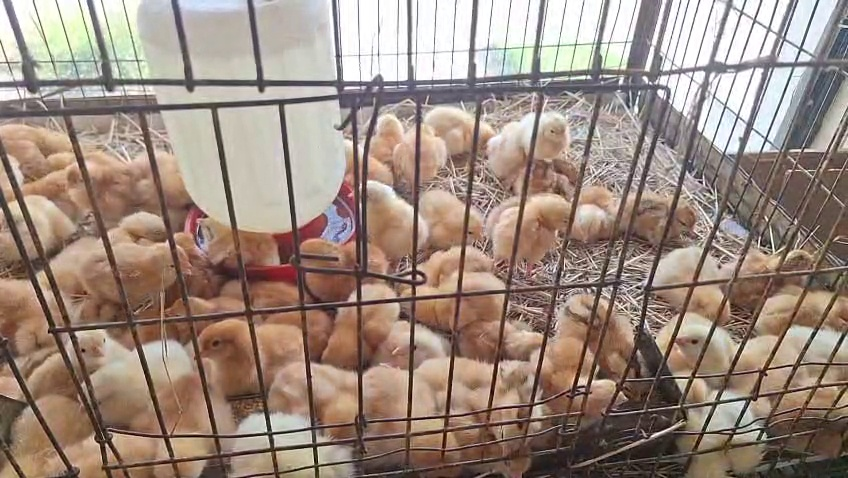Pollo: (359, 363, 469, 474), (189, 315, 315, 395), (77, 336, 190, 425), (341, 167, 435, 266), (262, 359, 368, 445), (63, 234, 187, 307), (527, 335, 633, 420), (220, 411, 354, 477), (151, 382, 238, 478), (673, 385, 765, 475), (475, 353, 550, 463), (283, 236, 398, 303), (716, 232, 821, 305), (552, 286, 639, 374), (739, 320, 804, 436), (316, 286, 405, 369), (497, 187, 576, 280), (652, 308, 742, 387), (647, 245, 740, 321), (25, 322, 123, 394), (7, 394, 89, 478), (63, 150, 157, 221), (187, 209, 285, 273), (410, 272, 534, 322), (152, 215, 223, 301), (752, 280, 847, 344), (46, 426, 161, 477), (776, 370, 845, 454), (125, 147, 198, 225), (0, 272, 72, 349), (619, 181, 699, 248), (772, 320, 848, 390), (326, 136, 407, 201), (414, 100, 506, 157), (410, 185, 488, 251), (1, 195, 77, 260), (462, 308, 555, 360), (216, 275, 315, 319), (368, 324, 455, 374), (17, 149, 86, 207), (0, 122, 79, 172), (508, 149, 585, 199), (388, 116, 445, 181), (472, 432, 551, 478), (570, 176, 619, 249), (98, 200, 167, 251), (482, 112, 535, 177), (520, 110, 579, 167), (59, 288, 129, 332), (414, 244, 492, 280), (481, 193, 533, 245), (169, 291, 221, 333), (368, 109, 407, 164), (133, 297, 170, 346)
